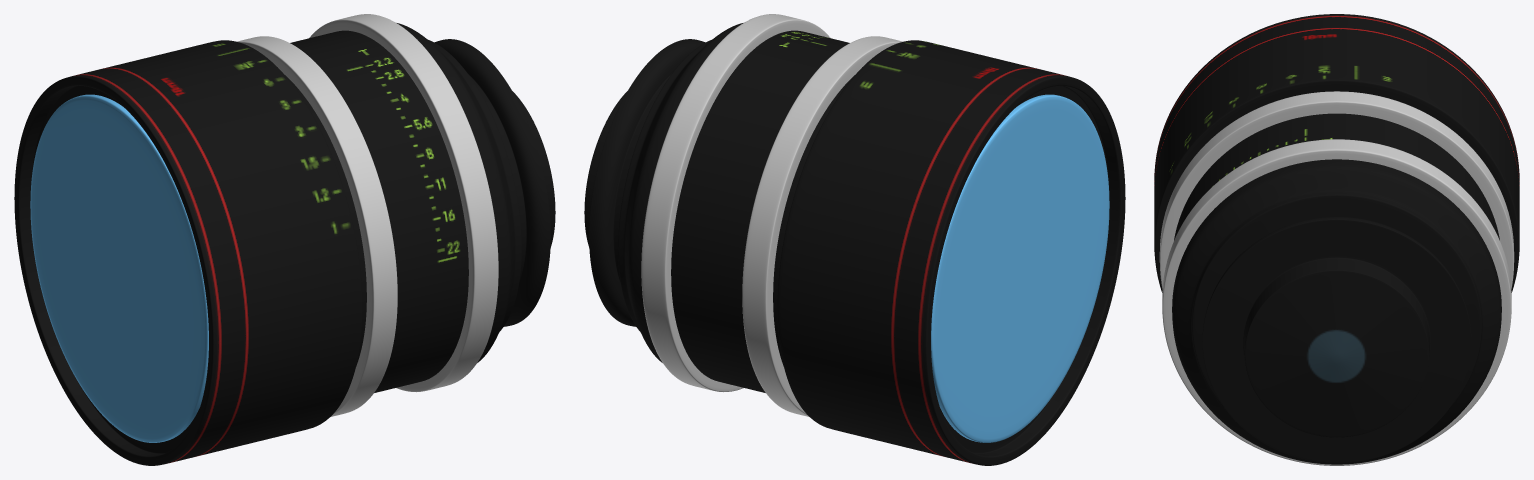
Rendered from lens_18mm.fbx.
The picture shows the model from 3 angles, left to right: view 1: azimuth 30°, elevation 25°; view 2: azimuth 150°, elevation 25°; view 3: azimuth 270°, elevation 25°; orthographic projection. The views are drawn at different scales.
Visible parts, largest first — view 1: Lens.002, Glass.002, Wheel_2.002, Wheel_1.002; view 2: Lens.002, Glass.002, Wheel_2.002, Wheel_1.002; view 3: Lens.002, Wheel_2.002, Wheel_1.002.
Part boxes in pixels (x1,y1,x2,y2): Lens.002: [14, 23, 555, 465]; Glass.002: [30, 94, 208, 442]; Wheel_2.002: [309, 14, 498, 392]; Wheel_1.002: [237, 36, 397, 416]; Lens.002: [584, 23, 1125, 465]; Glass.002: [931, 94, 1109, 442]; Wheel_2.002: [641, 14, 830, 392]; Wheel_1.002: [742, 36, 902, 416]; Lens.002: [1154, 14, 1519, 464]; Wheel_2.002: [1162, 139, 1511, 465]; Wheel_1.002: [1159, 91, 1514, 288].
Size of the model in its own units: 66.65 by 57.28 by 57.28.
